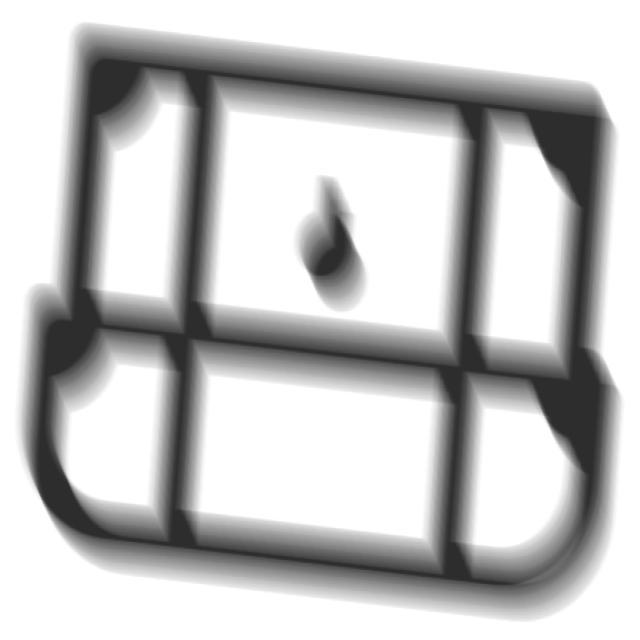treasure_box: (10, 12, 628, 627)
